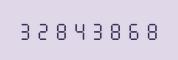eight: (53, 20, 70, 40), (107, 20, 124, 40), (143, 20, 160, 40)
four: (71, 20, 88, 40)
six: (125, 20, 142, 40)
three: (17, 20, 34, 40), (89, 20, 106, 40)
two: (35, 20, 52, 40)
